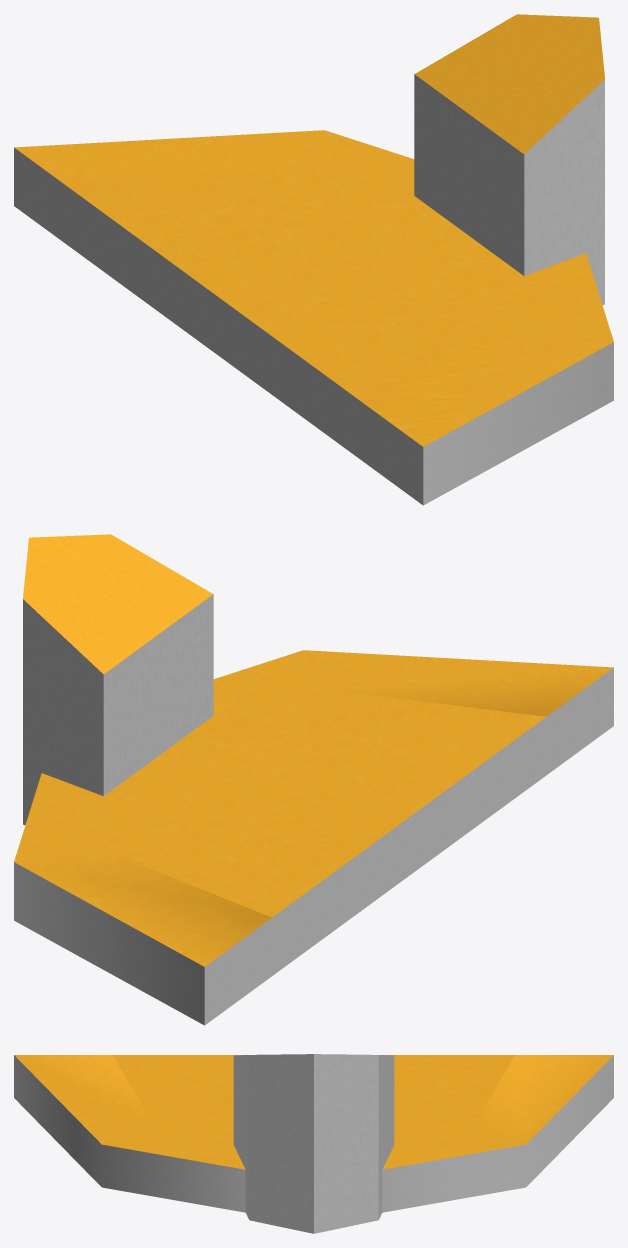
The model's file is StagewithTable.fbx.
The picture shows the model from 3 angles, top to bottom: view 1: azimuth 30°, elevation 25°; view 2: azimuth 150°, elevation 25°; view 3: azimuth 270°, elevation 25°; orthographic projection. The views are drawn at different scales.
Visible parts, largest first — view 1: StagewithTable; view 2: StagewithTable; view 3: StagewithTable.
Part boxes in pixels (<box>): StagewithTable: <box>14,14,613,505</box>; StagewithTable: <box>14,534,613,1025</box>; StagewithTable: <box>14,1054,613,1233</box>.
Size of the model in its own units: 140 by 86.6 by 262.
